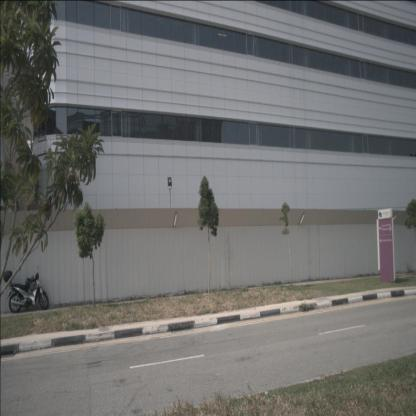vehicle-motorcycle: (3, 265, 49, 313)
